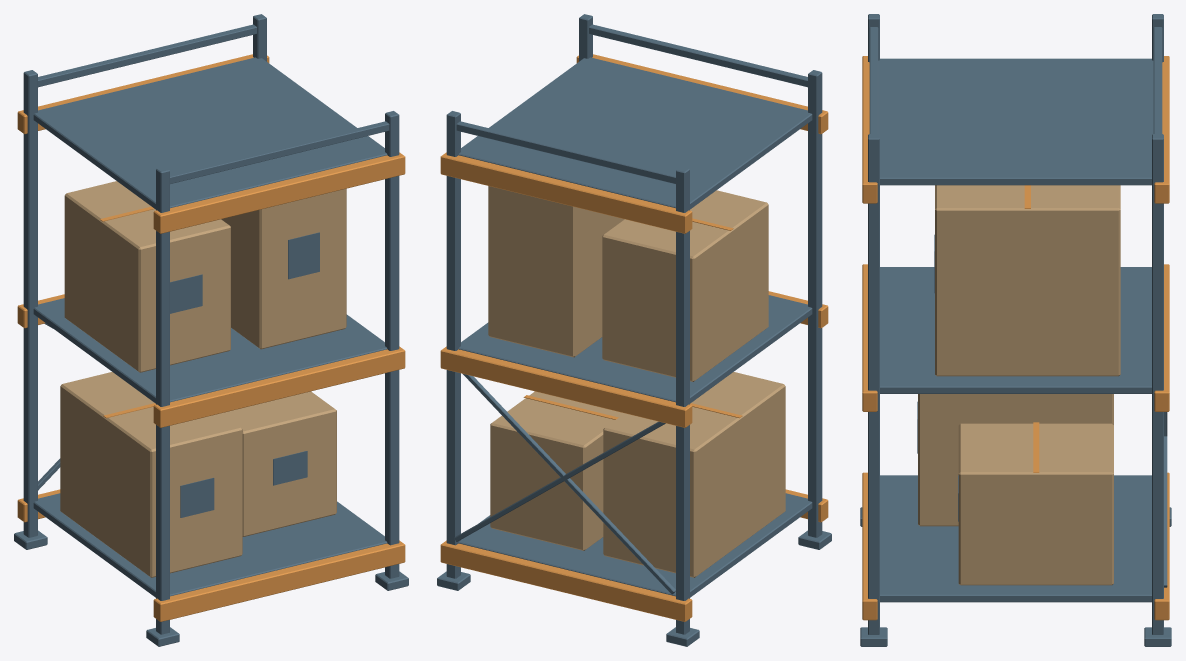
Rendered from shelf.glb.
The picture shows the model from 3 angles, left to right: view 1: azimuth 30°, elevation 25°; view 2: azimuth 150°, elevation 25°; view 3: azimuth 270°, elevation 25°; orthographic projection. The views are drawn at different scales.
Visible parts, largest first — view 1: Shelf_Geometry; view 2: Shelf_Geometry; view 3: Shelf_Geometry.
Part boxes in pixels (x1,y1,x2,y2): Shelf_Geometry: [14, 14, 408, 646]; Shelf_Geometry: [437, 14, 831, 646]; Shelf_Geometry: [860, 14, 1171, 646].
Bounding box in the file's own units: 0.92 × 1.65 × 0.92.
